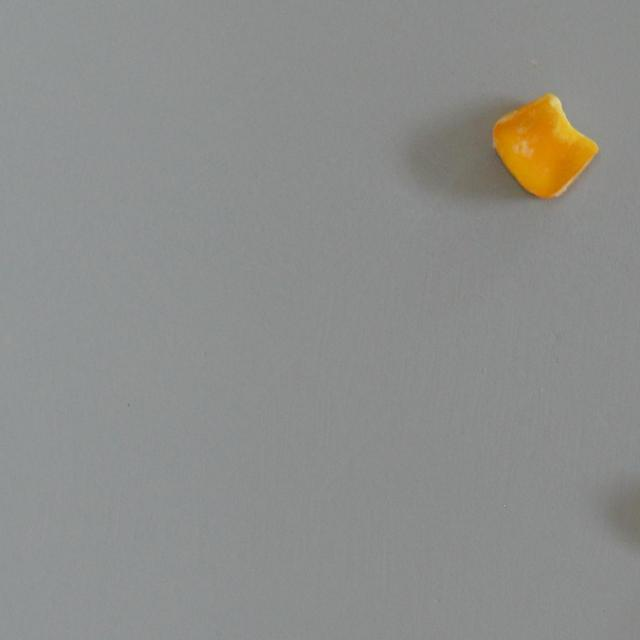pelicula: (486, 78, 606, 215)
